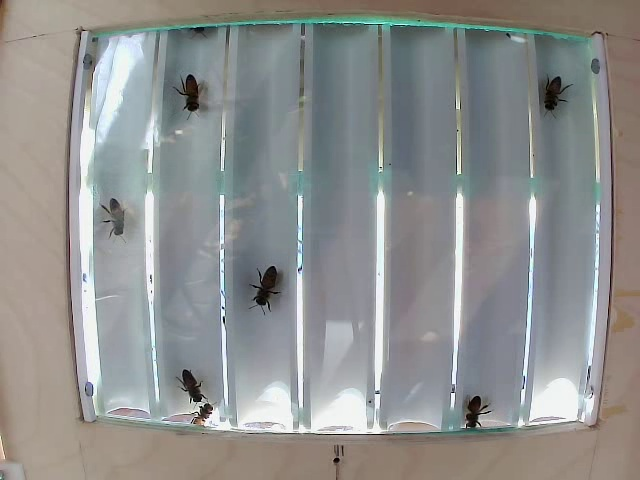bee: (244, 264, 295, 314), (171, 62, 206, 112), (175, 368, 213, 405), (541, 66, 567, 120), (458, 393, 491, 432), (105, 205, 142, 239)
